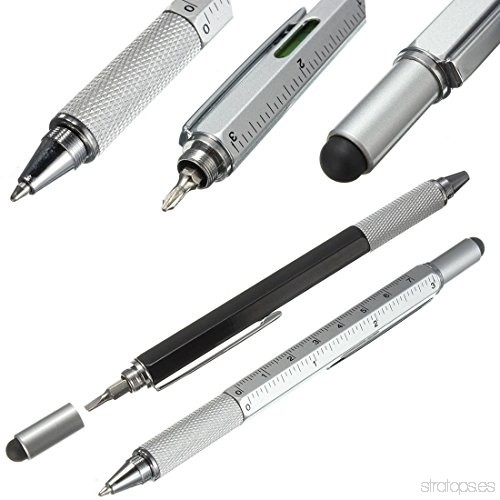Boligrafo: (90, 231, 492, 500), (90, 176, 479, 413), (13, 1, 235, 206)
